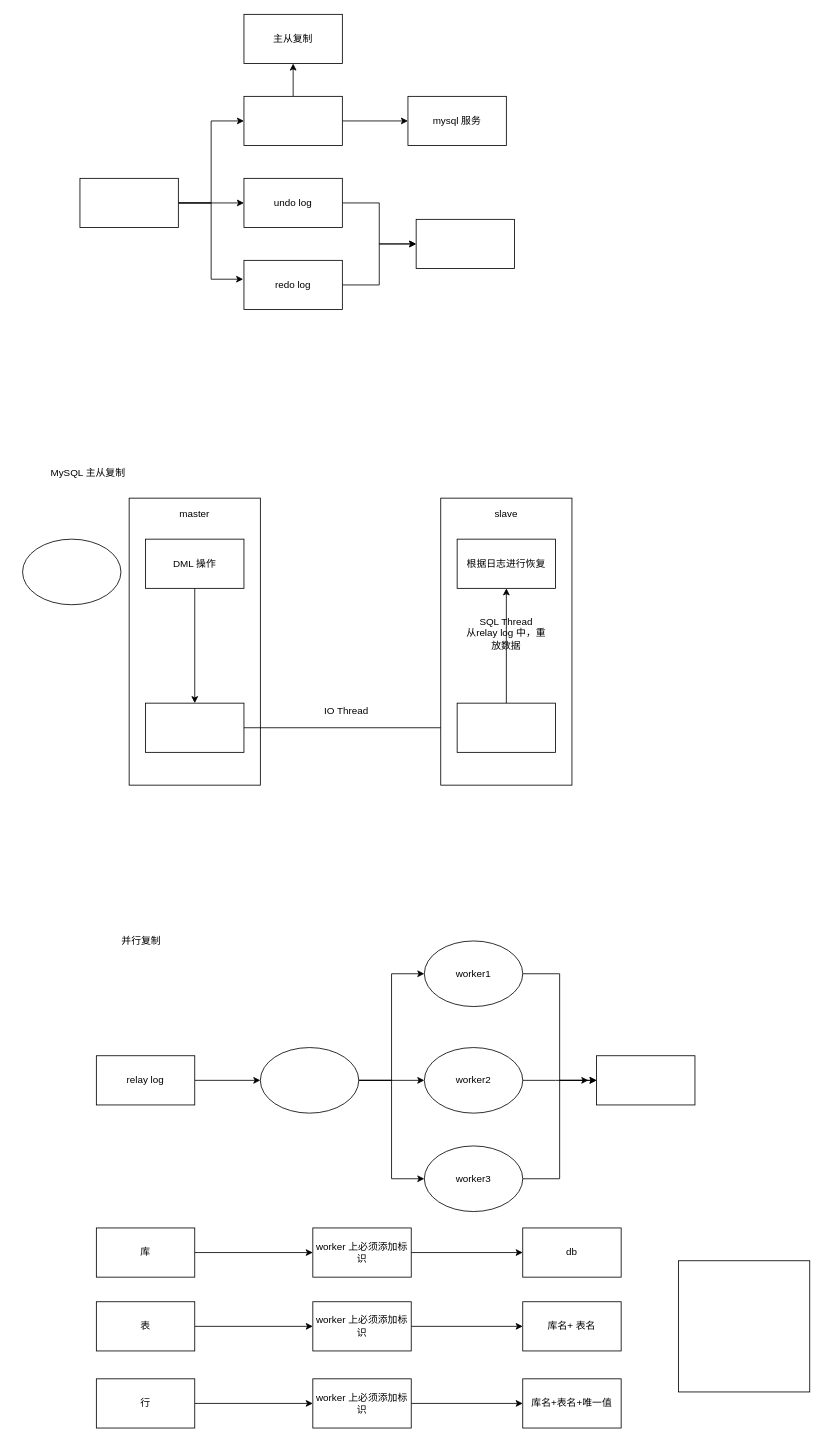
Some shapes in this 824 by 1442 pixel diagram are drawn without their labels. Each missing label, with the centre of its shape:
"bin log" belongs at (292,121).
"Bin log 手动开启" belongs at (194,727).
"client" belongs at (71,571).
"coordinator" belongs at (309,1080).
"data" belongs at (645,1080).
"GTID 服务器的唯一标识 递增的事务id" belongs at (744,1326).
"innodb 存储引擎" belongs at (465,244).
"MySQL 日志系统" belongs at (128,203).
"relay log 中继日志" belongs at (506,727).
